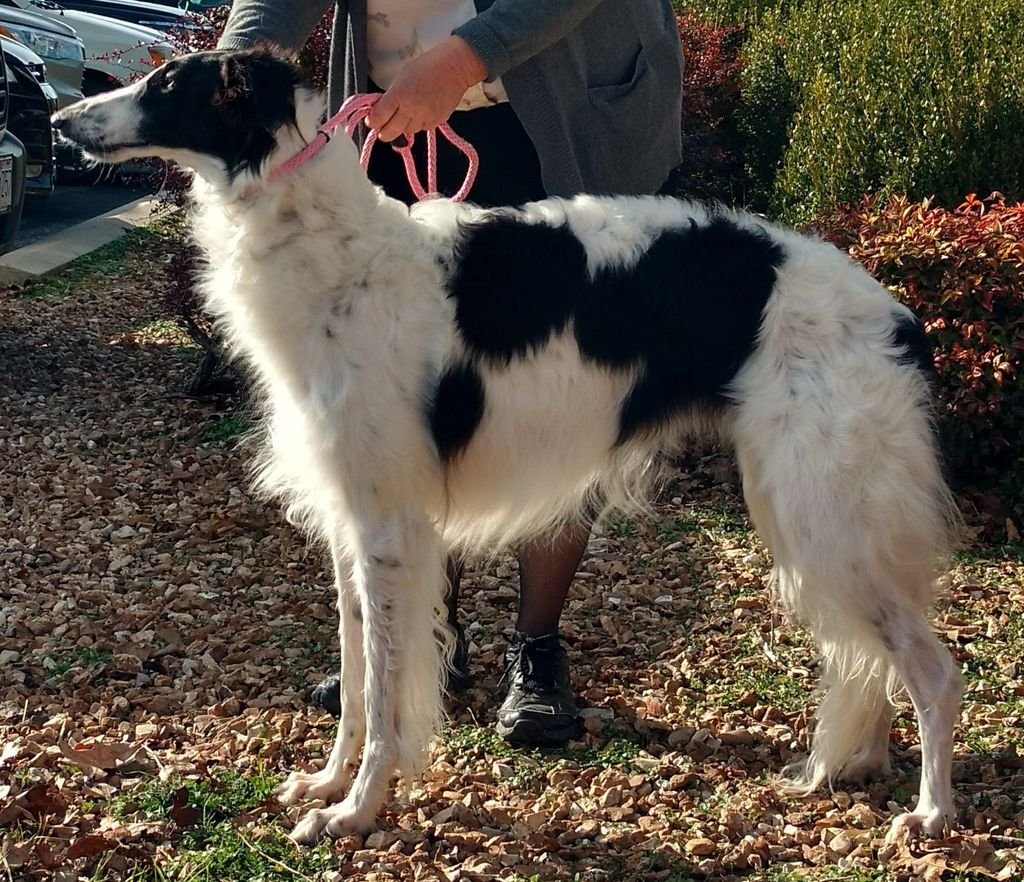borzoi: (36, 40, 1008, 831)
